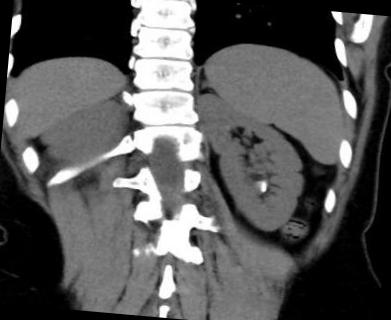Tas_Var: (256, 178, 273, 194)
